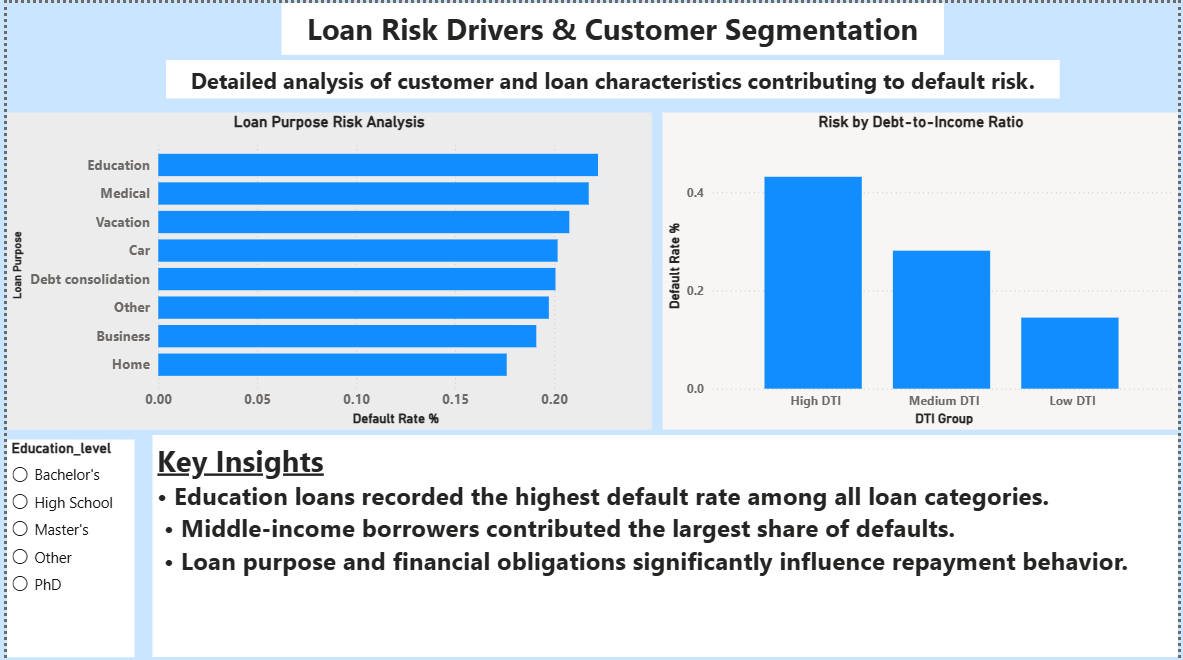

What the dashboard file says about the page in this screenshot:
{"tool":"powerbi","page":{"name":"Risk Analysis","canvas":[1280,720],"ordinal":1},"visuals":[{"type":"columnChart","title":"Risk by Debt-to-Income Ratio","fields":{"Category":["loan_data.DTI Group"],"Y":["loan_data.Default Rate"]},"box":[715.7,119.8,565.1,346.5],"z":0},{"type":"clusteredBarChart","title":"Loan Purpose Risk Analysis","fields":{"Category":["loan_data.loan_purpose"],"Y":["loan_data.Default Rate"]},"box":[0,119.8,704.4,346.5],"z":1000},{"type":"listSlicer","title":"Education_level","fields":{"Values":["loan_data.education_level"]},"box":[0,477,139.3,237.7],"z":2000},{"type":"textbox","box":[299.6,0,723.8,56.7],"z":3000},{"type":"textbox","box":[173.3,61.5,976.4,42.1],"z":4000},{"type":"textbox","box":[158.7,472.8,1122.1,242.9],"z":5000}]}

Visuals, with their boxes in screenshot pixels (x1, y1, x2, y2), scaled from the page's 1280x720 canvas onto the 1183x660 screenshot:
"Risk by Debt-to-Income Ratio" columnChart: l=661, t=110, r=1182, b=427
"Loan Purpose Risk Analysis" clusteredBarChart: l=0, t=110, r=651, b=427
"Education_level" listSlicer: l=0, t=437, r=129, b=655
textbox: l=277, t=0, r=946, b=52
textbox: l=160, t=56, r=1063, b=95
textbox: l=147, t=433, r=1182, b=656
